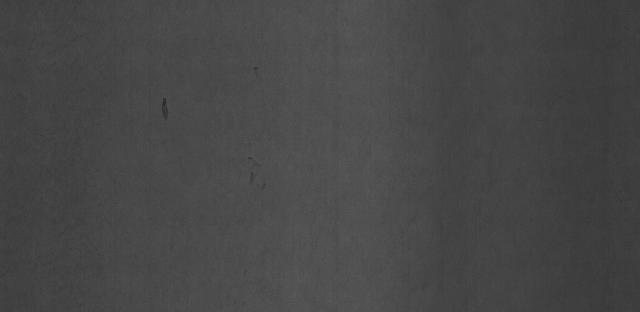oil_spot: (156, 94, 176, 125)
silk_spot: (0, 4, 136, 300)
water_spot: (237, 158, 273, 196)
